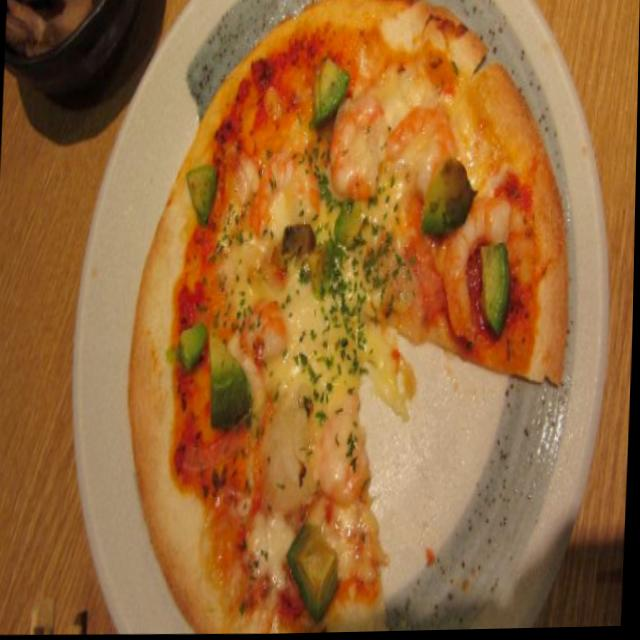汉堡快餐: (55, 0, 591, 620)
